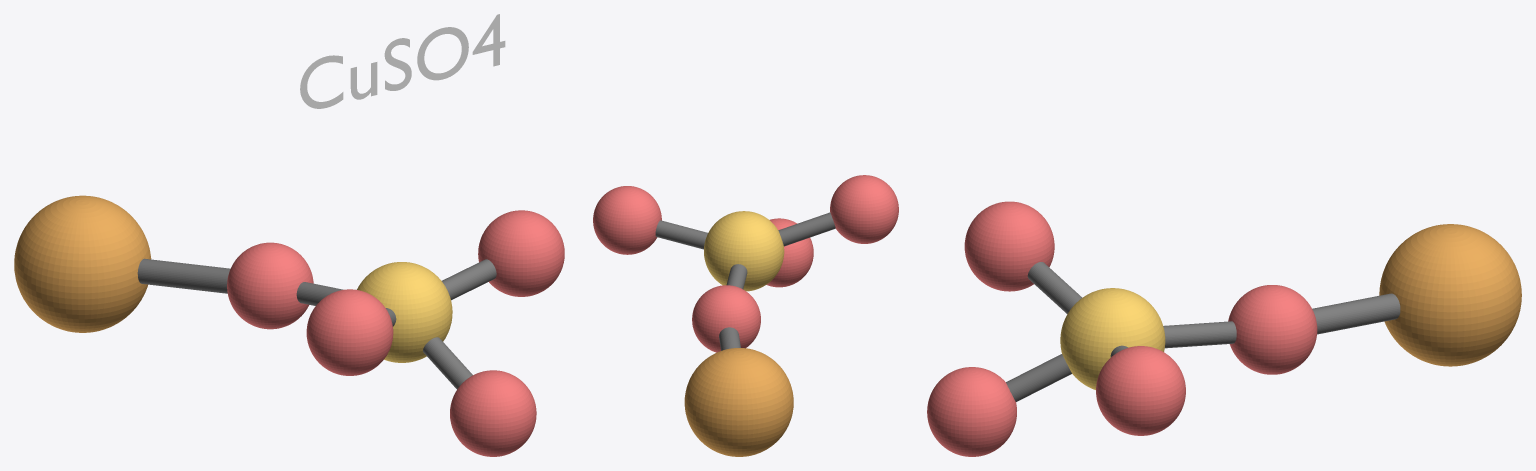
File: CuSO4.glb
3 views of the same model, side by side, from view 1: azimuth 30°, elevation 25°; view 2: azimuth 150°, elevation 25°; view 3: azimuth 270°, elevation 25° (orthographic). The views are drawn at different scales.
Visible parts, largest first — view 1: Cu, O3, O4, S, O1, O2, Label, Bond_Metal, Bond.003, Bond, Bond.001; view 2: Cu, S, O3, O1, O2, O4, Bond.002, Bond, Bond_Metal, Bond.001; view 3: Cu, S, O1, O4, O2, O3, Bond_Metal, Bond.001, Bond.003, Bond.002.
Part boxes in pixels (x1,y1,x2,y2): Cu: [14, 195, 151, 332]; O3: [306, 289, 393, 375]; O4: [450, 370, 536, 456]; S: [357, 262, 452, 362]; O1: [478, 210, 564, 296]; O2: [227, 242, 313, 329]; Label: [300, 14, 505, 108]; Bond_Metal: [137, 258, 230, 293]; Bond.003: [423, 337, 472, 389]; Bond: [442, 259, 496, 300]; Bond.001: [296, 282, 343, 305]; Cu: [684, 348, 793, 456]; S: [704, 211, 784, 291]; O3: [830, 175, 898, 243]; O1: [593, 186, 661, 254]; O2: [692, 285, 760, 352]; O4: [766, 218, 813, 287]; Bond.002: [778, 212, 835, 246]; Bond: [655, 220, 707, 249]; Bond_Metal: [719, 327, 740, 350]; Bond.001: [726, 264, 747, 289]; Cu: [1379, 224, 1521, 366]; S: [1060, 288, 1165, 389]; O1: [1096, 346, 1185, 435]; O4: [927, 367, 1016, 456]; O2: [1228, 285, 1317, 374]; O3: [964, 201, 1054, 291]; Bond_Metal: [1312, 293, 1400, 334]; Bond.001: [1163, 321, 1236, 348]; Bond.003: [1006, 354, 1071, 401]; Bond.002: [1027, 262, 1082, 313].
Size of the model in its own units: 2.47 by 2.27 by 3.17.
